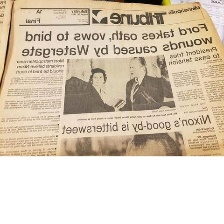news_paper: (0, 0, 223, 157)
